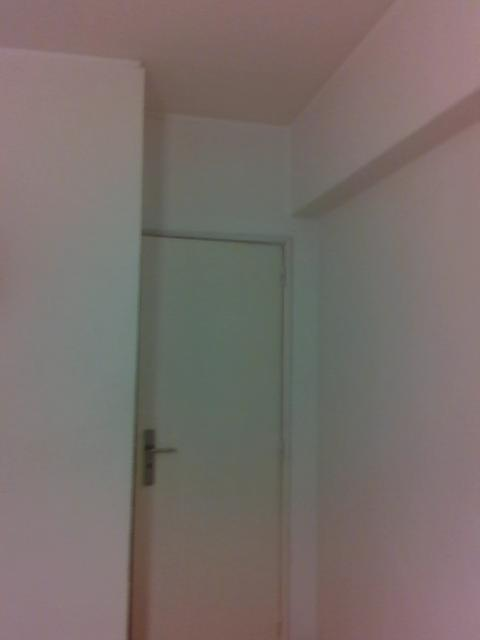door: (132, 232, 280, 639)
